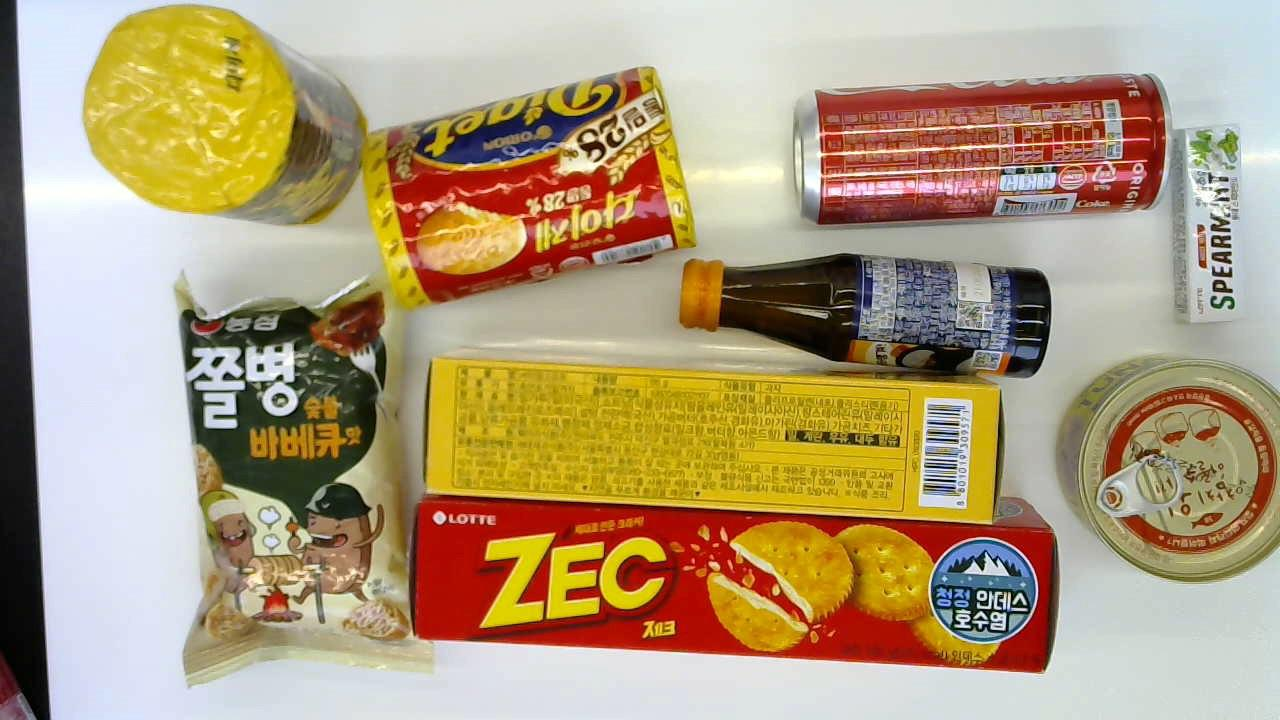buttering: (421, 347, 1010, 525)
coke: (790, 71, 1171, 227)
diget_choco: (84, 6, 364, 225)
diget_ori: (364, 64, 699, 314)
jjolbyung_ori: (164, 263, 432, 691)
spearmint: (1167, 120, 1246, 322)
tuna: (1058, 351, 1280, 579)
vita500: (677, 244, 1052, 379)
zec: (411, 491, 1062, 677)
